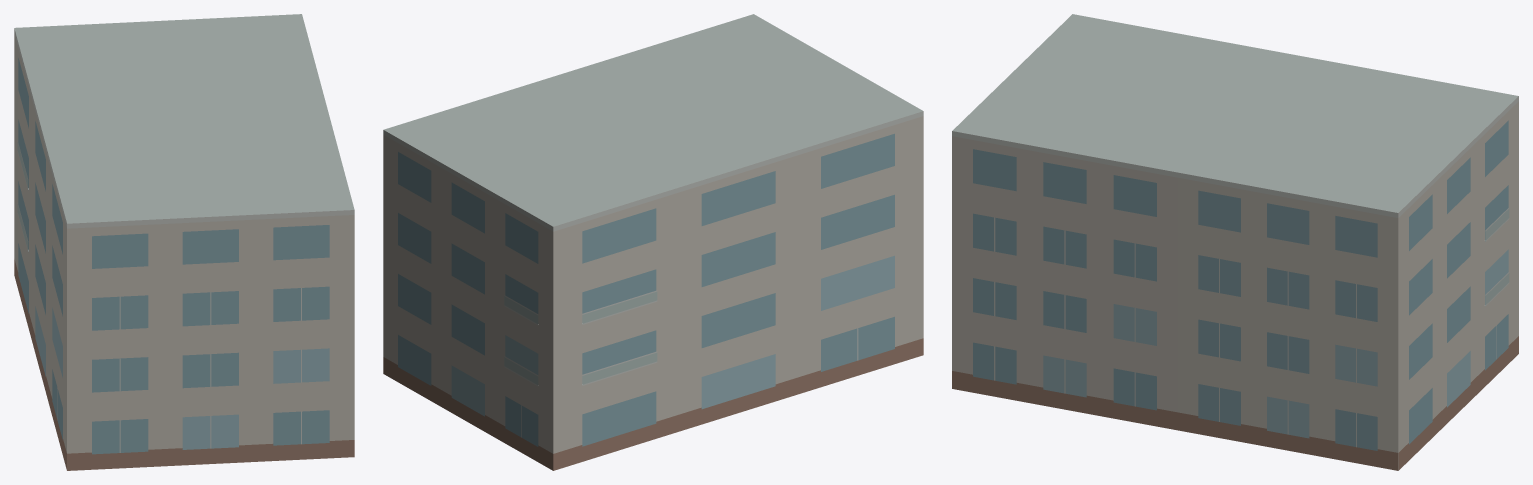
Rendered from residential-a5c72bf4-a0c2-4d40-84e3-5a462c044f6b.glb.
3 views of the same model, side by side, from view 1: azimuth 30°, elevation 25°; view 2: azimuth 150°, elevation 25°; view 3: azimuth 270°, elevation 25° (orthographic). The views are drawn at different scales.
Visible parts, largest first — view 1: residential-a5c72bf4-a0c2-4d40-84e3-5a462c044f6b.tmp; view 2: residential-a5c72bf4-a0c2-4d40-84e3-5a462c044f6b.tmp; view 3: residential-a5c72bf4-a0c2-4d40-84e3-5a462c044f6b.tmp.
Boxes of the visible parts, x1,y1,x2,y2 form: residential-a5c72bf4-a0c2-4d40-84e3-5a462c044f6b.tmp: (14,14,354,470); residential-a5c72bf4-a0c2-4d40-84e3-5a462c044f6b.tmp: (383,14,923,470); residential-a5c72bf4-a0c2-4d40-84e3-5a462c044f6b.tmp: (952,14,1518,470).
Bounding box in the file's own units: 20.21 × 12.2 × 24.31.
